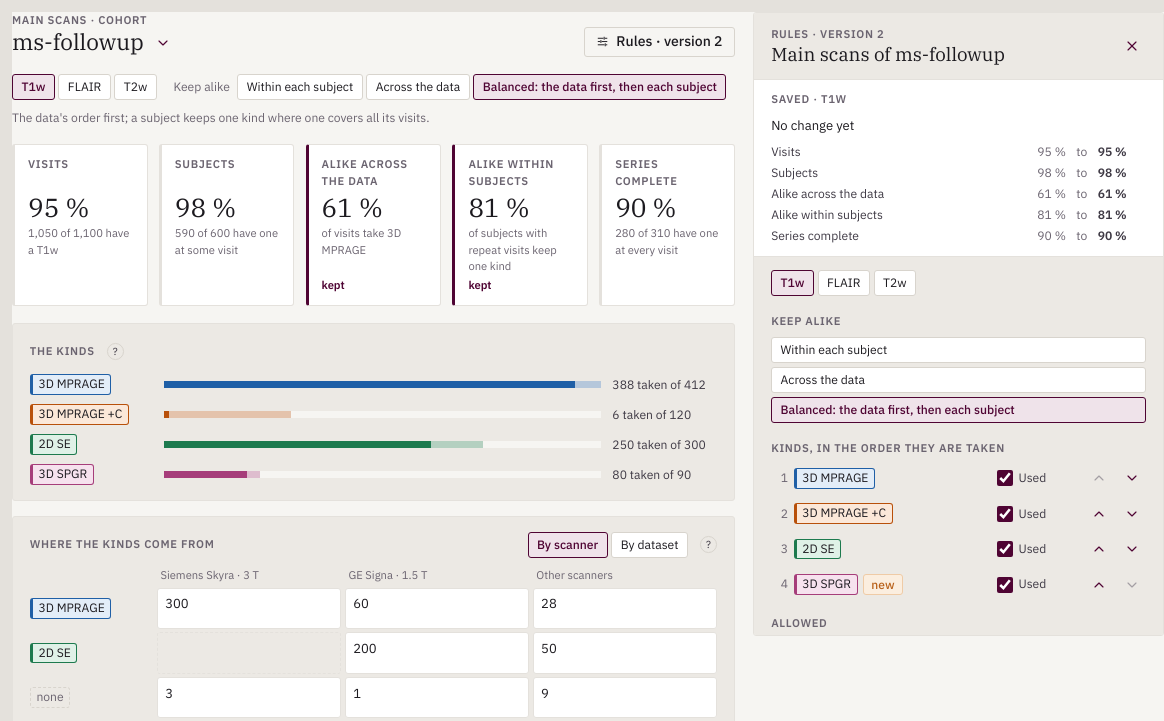
Test: the Rules panel › keeps a draft in the browser and asks the map door again once it settles, with the effect against the saved version
Click the button "Across the data" below "No change yet" at (823, 380), box top-left (771, 367), bottom-right (1146, 393)
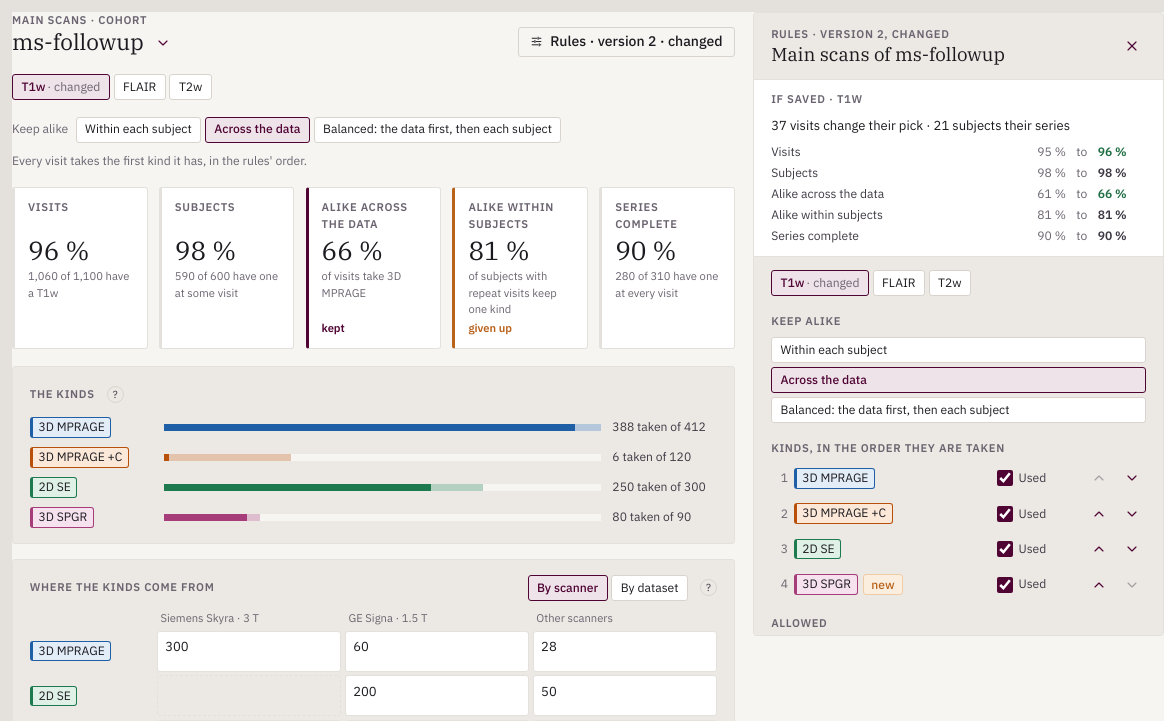
Expected: the text with class "eyebrow" reads "Rules · version 2, changed", top-left (771, 27), bottom-right (950, 41)
Expected: the text with class "eyebrow" reads "If saved · T1w", top-left (771, 92), bottom-right (863, 106)
Expected: the text with class "ms-effect-line" reads "37 visits change their pick · 21 subjects their series", top-left (771, 117), bottom-right (1070, 134)
